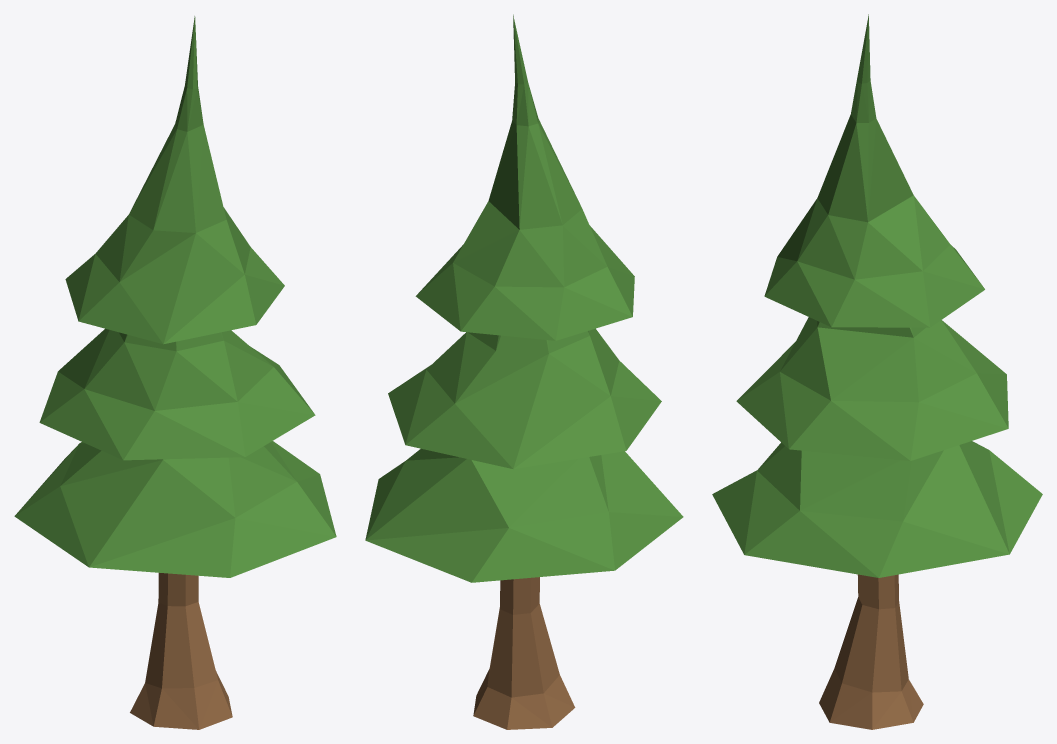
Rendered from wood_00.FBX.
3 views of the same model, side by side, from view 1: azimuth 30°, elevation 25°; view 2: azimuth 150°, elevation 25°; view 3: azimuth 270°, elevation 25° (orthographic).
Parts seen in each view (by area): view 1: wood_00; view 2: wood_00; view 3: wood_00.
Part boxes in pixels (bbox=[...]): wood_00: bbox=[14, 16, 336, 729]; wood_00: bbox=[365, 14, 683, 729]; wood_00: bbox=[712, 14, 1042, 729].
Size of the model in its own units: 36.12 by 88.32 by 37.74.
